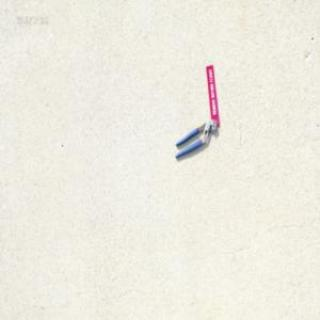LuggageTagtrack_idkeyframe: (205, 61, 219, 126)
Pliertrack_idkeyframe: (174, 116, 216, 159)
